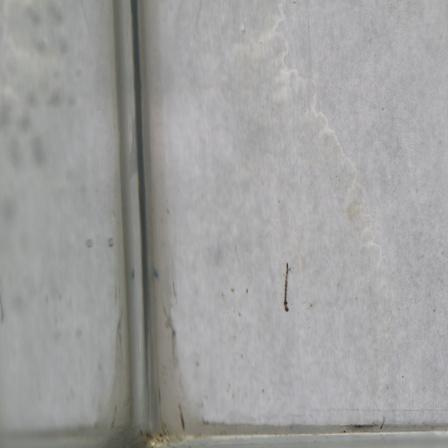Jentik-Nyamuk: (278, 258, 300, 315)
